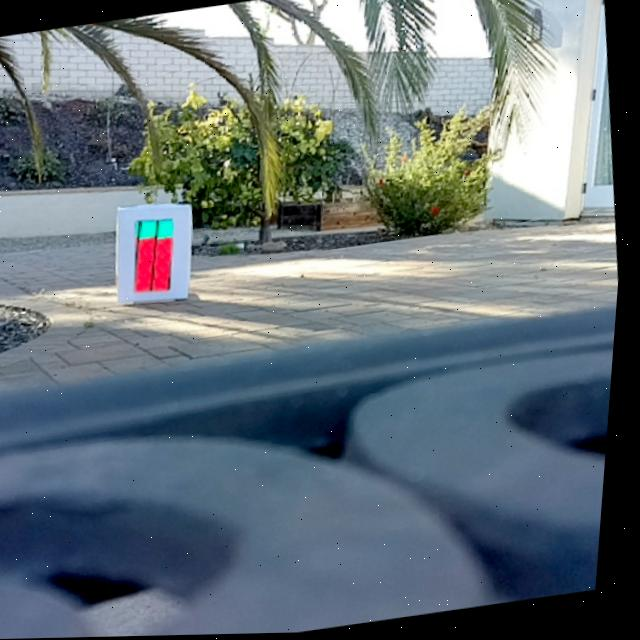led: (130, 216, 185, 295)
